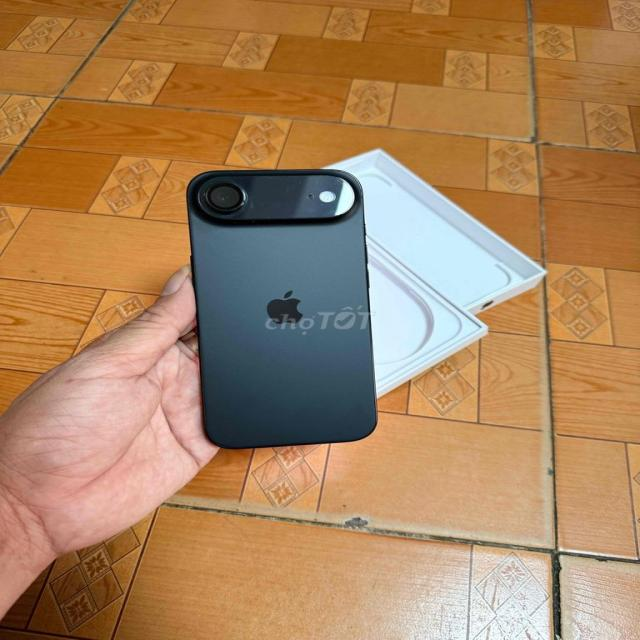gen_17: (187, 168, 403, 456)
